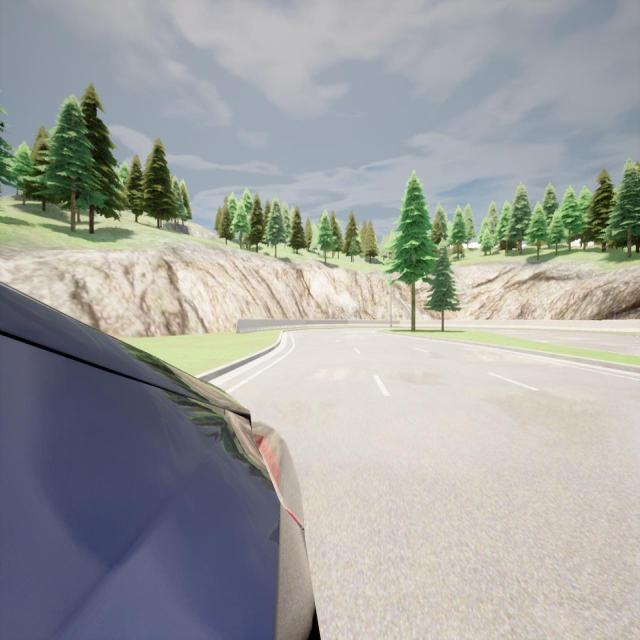Vehicle: (0, 283, 318, 638)
